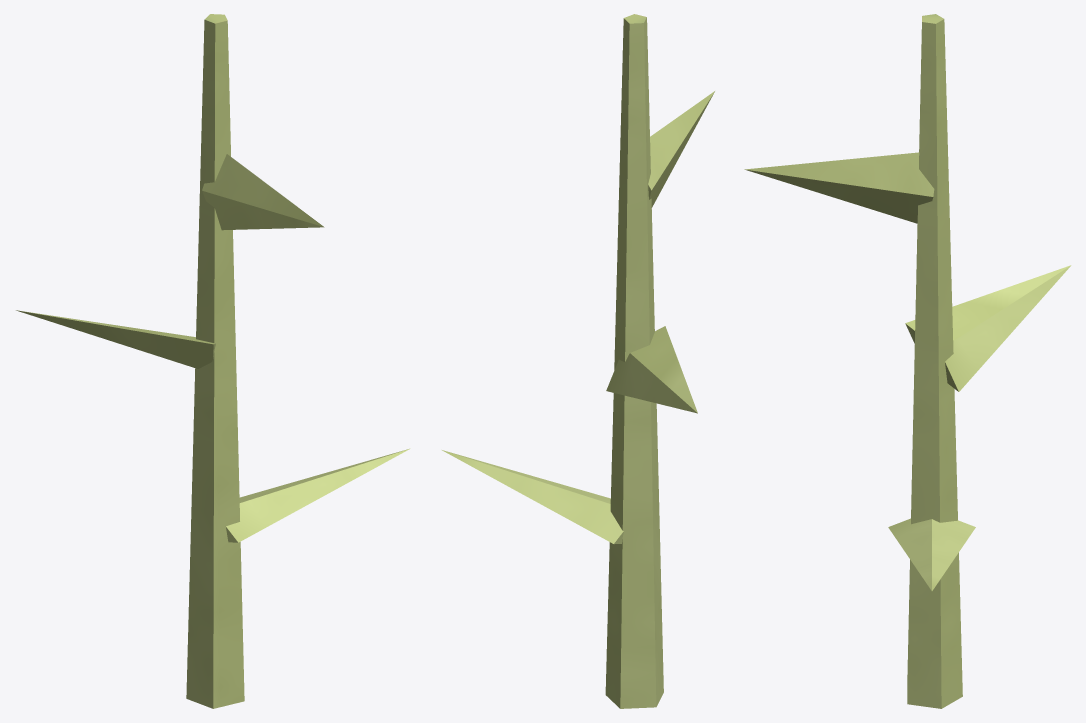
Rendered from sm_crop_corn_1.glb.
3 views of the same model, side by side, from view 1: azimuth 30°, elevation 25°; view 2: azimuth 150°, elevation 25°; view 3: azimuth 270°, elevation 25° (orthographic).
Visible parts, largest first — view 1: sm_crop_corn_1; view 2: sm_crop_corn_1; view 3: sm_crop_corn_1.
Part boxes in pixels (x1,y1,x2,y2): sm_crop_corn_1: (16, 14, 410, 708); sm_crop_corn_1: (442, 14, 714, 708); sm_crop_corn_1: (744, 14, 1071, 708).
Size of the model in its own units: 0.1074 by 0.2125 by 0.0932.
1 material, 1 textured.
